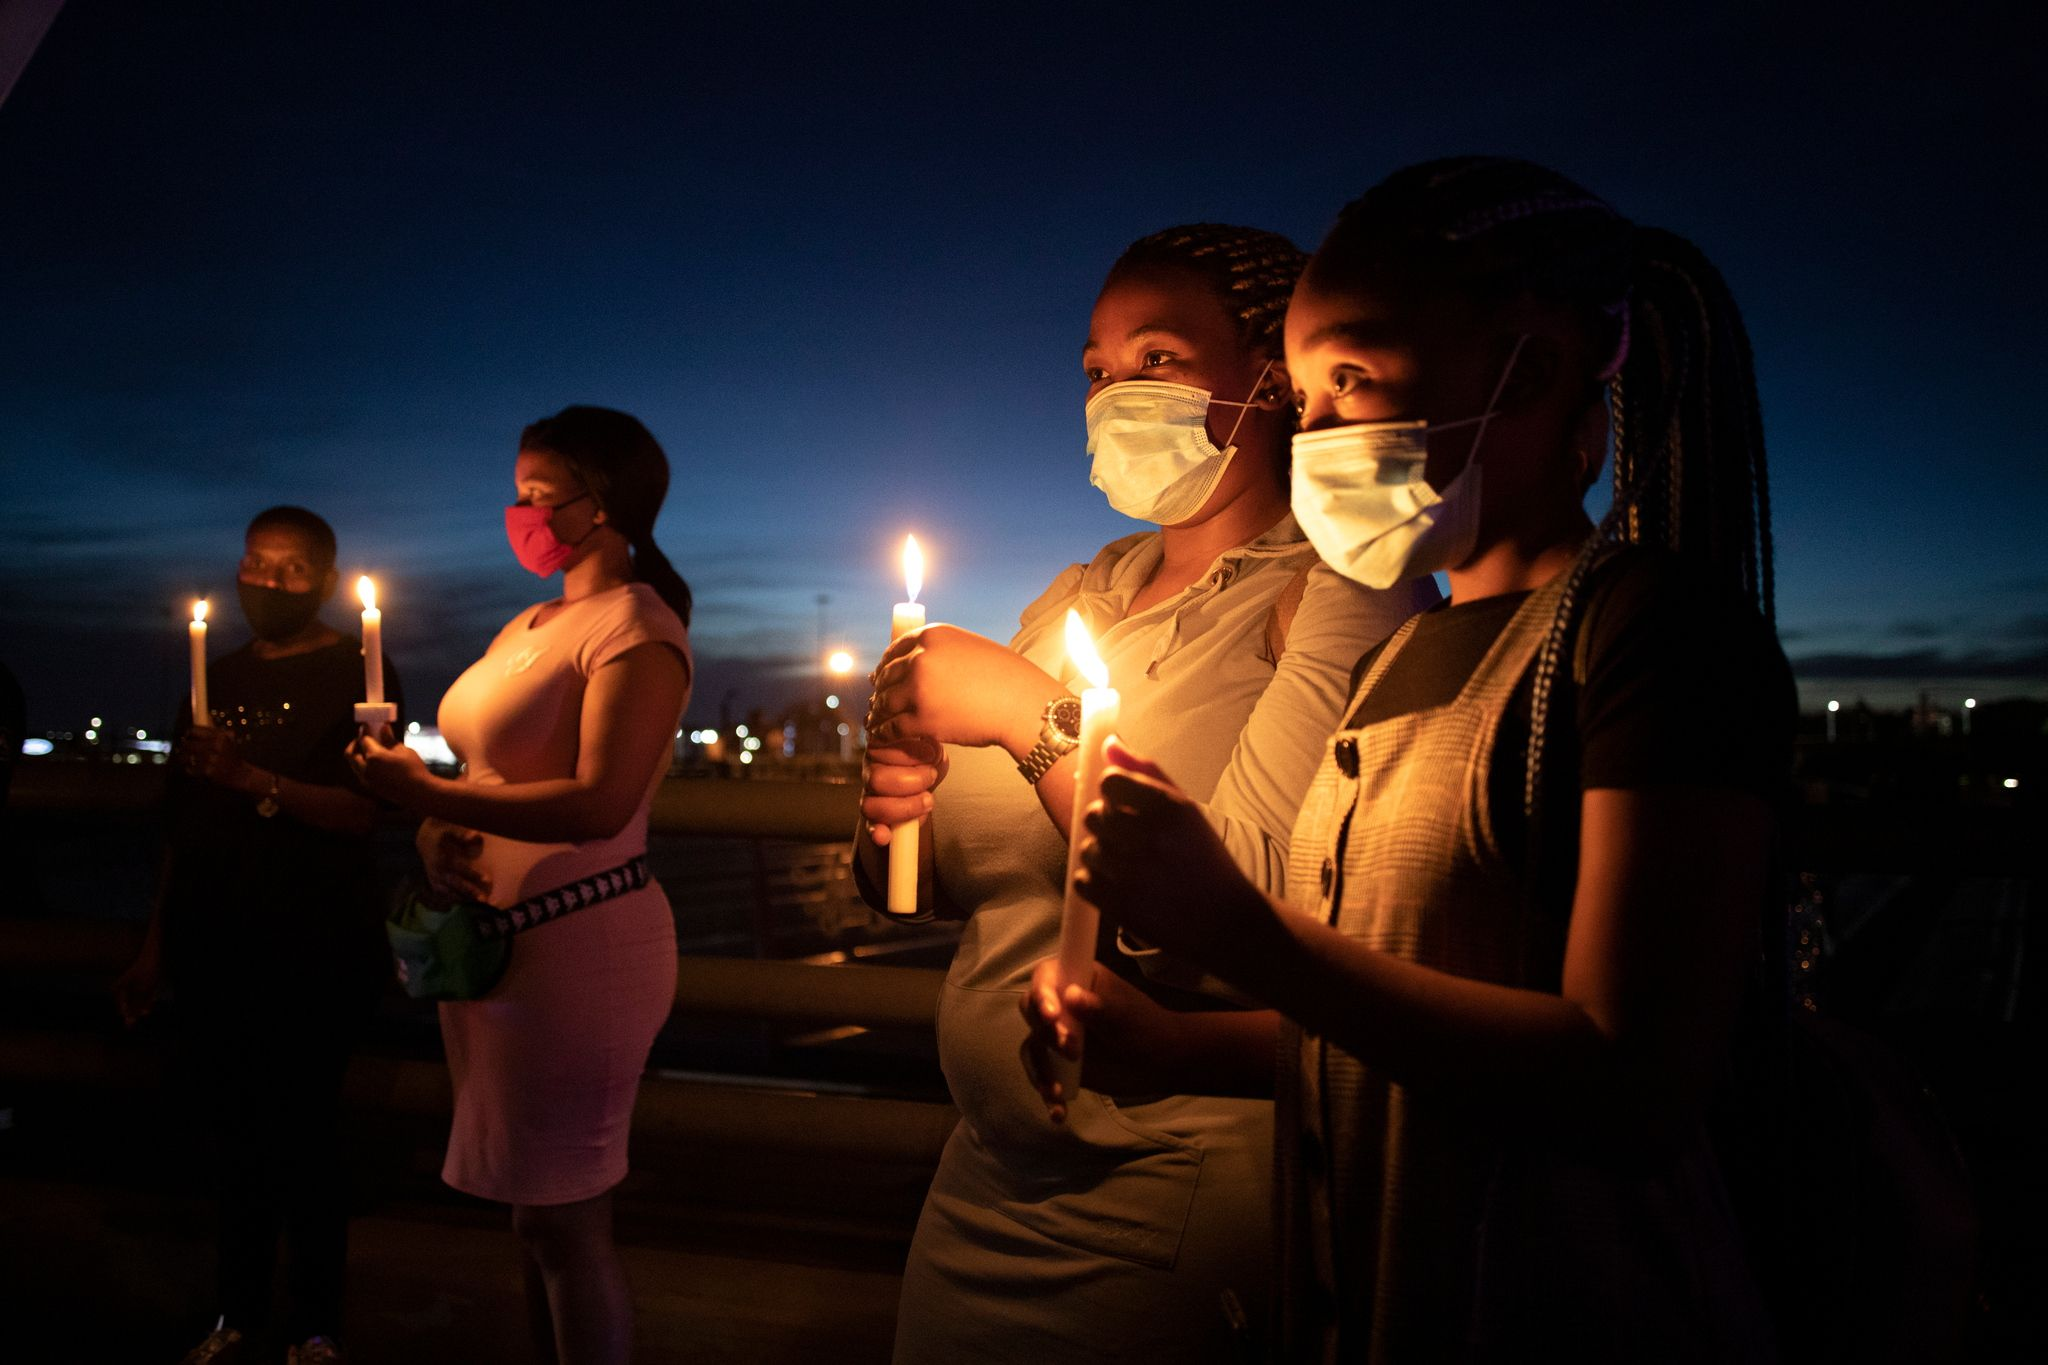with_mask: (1285, 315, 1459, 554), (1089, 312, 1233, 497), (513, 457, 602, 563), (243, 532, 314, 622)
